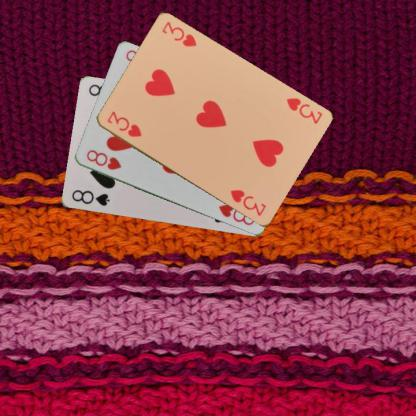3h: (283, 95, 324, 125), (104, 108, 143, 139)
8h: (83, 146, 123, 172)
8s: (69, 187, 111, 208)
